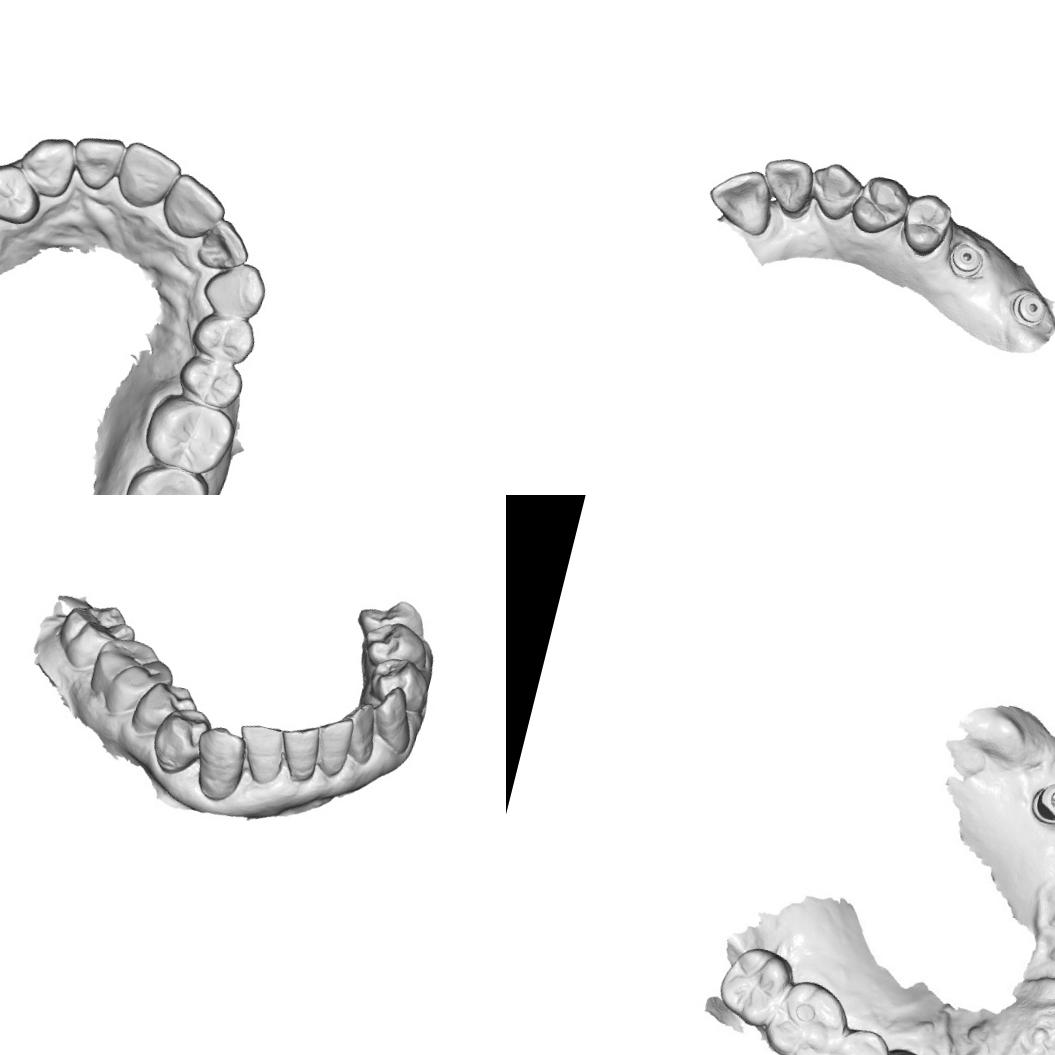canine: (184, 720, 252, 807), (196, 254, 274, 326), (14, 124, 81, 201), (362, 680, 421, 758), (802, 156, 866, 224)
implant: (1006, 286, 1050, 330), (943, 239, 987, 282), (1024, 776, 1055, 833)
incisor: (700, 159, 782, 239), (109, 138, 187, 217), (154, 167, 231, 247), (753, 151, 820, 222), (226, 717, 290, 789), (64, 128, 126, 196), (192, 212, 256, 276), (331, 696, 385, 768), (305, 708, 356, 780), (272, 718, 325, 785)
molar: (134, 387, 243, 482), (82, 628, 181, 727), (50, 593, 141, 682), (711, 939, 798, 1032), (757, 974, 855, 1055), (115, 455, 213, 495)
premolar: (144, 700, 216, 782), (125, 674, 202, 750), (846, 169, 914, 240), (172, 350, 247, 414), (356, 615, 433, 676), (364, 650, 436, 714), (186, 306, 259, 367), (895, 188, 956, 261), (0, 157, 48, 230), (816, 1020, 894, 1055)
